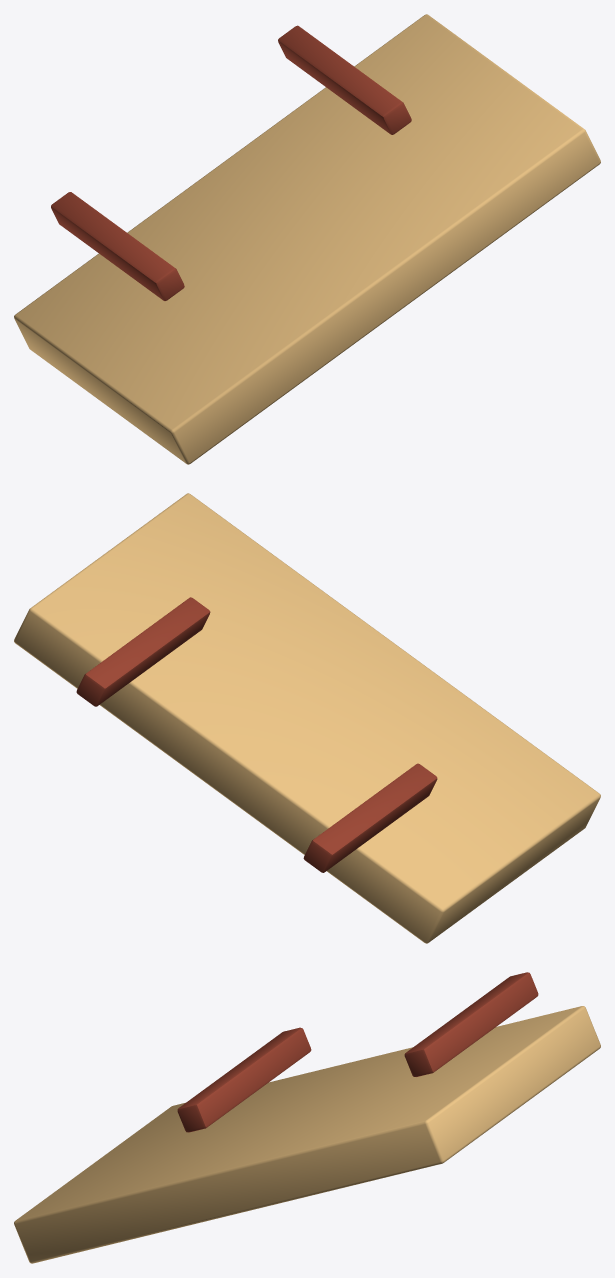
3 views of the same model, one above another, from view 1: azimuth 30°, elevation 25°; view 2: azimuth 150°, elevation 25°; view 3: azimuth 330°, elevation 25° (orthographic).
Parts seen in each view (by area): view 1: shadeBeige.001, shadeBrown.006, shadeBrown.002; view 2: shadeBeige.001, shadeBrown.002, shadeBrown.006; view 3: shadeBeige.001, shadeBrown.006, shadeBrown.002.
Part boxes in pixels (x1=…): shadeBeige.001: x1=14, y1=14, x2=600, y2=464; shadeBrown.006: x1=51, y1=192, x2=184, y2=300; shadeBrown.002: x1=278, y1=25, x2=411, y2=134; shadeBeige.001: x1=14, y1=493, x2=600, y2=943; shadeBrown.002: x1=76, y1=597, x2=210, y2=706; shadeBrown.006: x1=303, y1=763, x2=437, y2=872; shadeBeige.001: x1=14, y1=1006, x2=600, y2=1263; shadeBrown.006: x1=177, y1=1027, x2=311, y2=1132; shadeBrown.002: x1=404, y1=972, x2=538, y2=1076.
Size of the model in its own units: 4.65 by 2.47 by 3.68.
